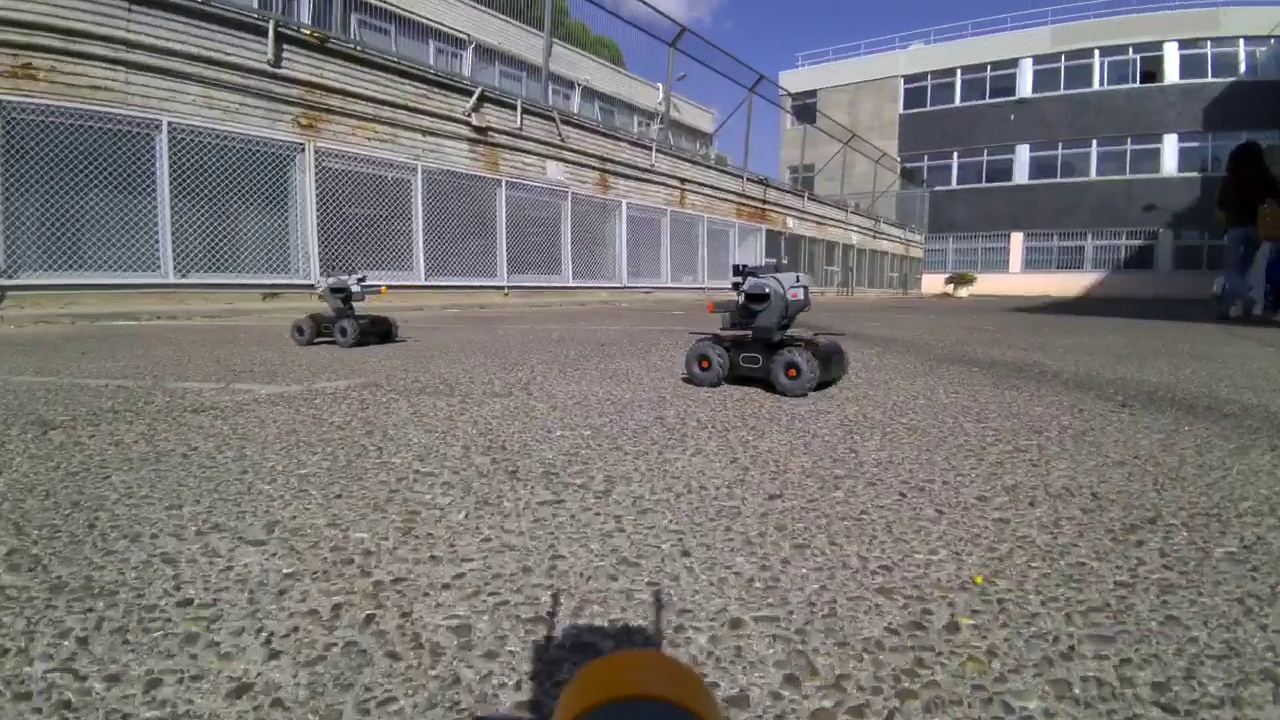robot: (683, 252, 842, 409), (278, 252, 399, 355)
